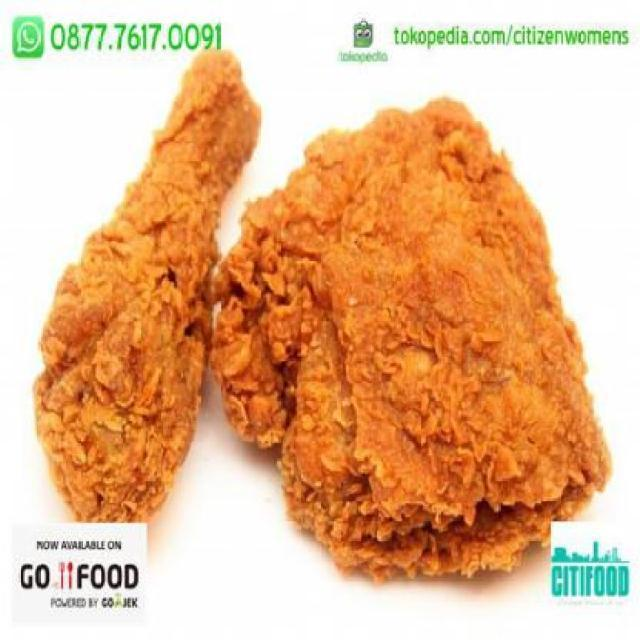Chicken -Fried Chicken-: (199, 97, 613, 586), (32, 50, 262, 526)
